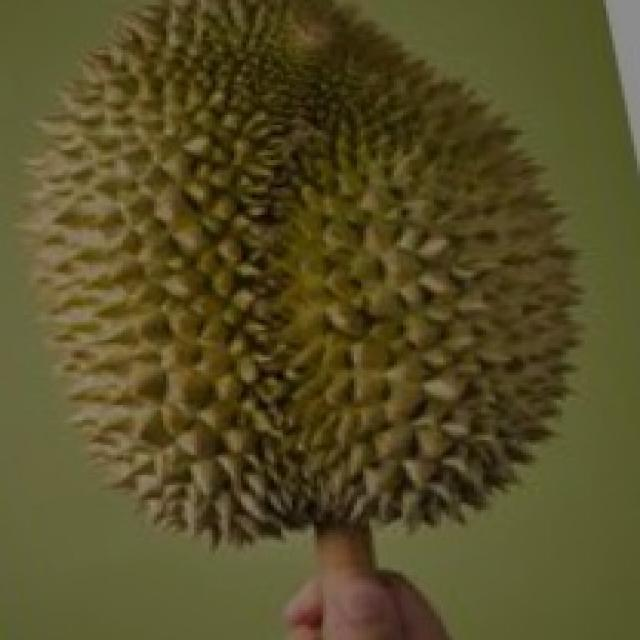fruit: (228, 197, 637, 595), (3, 192, 372, 600)
